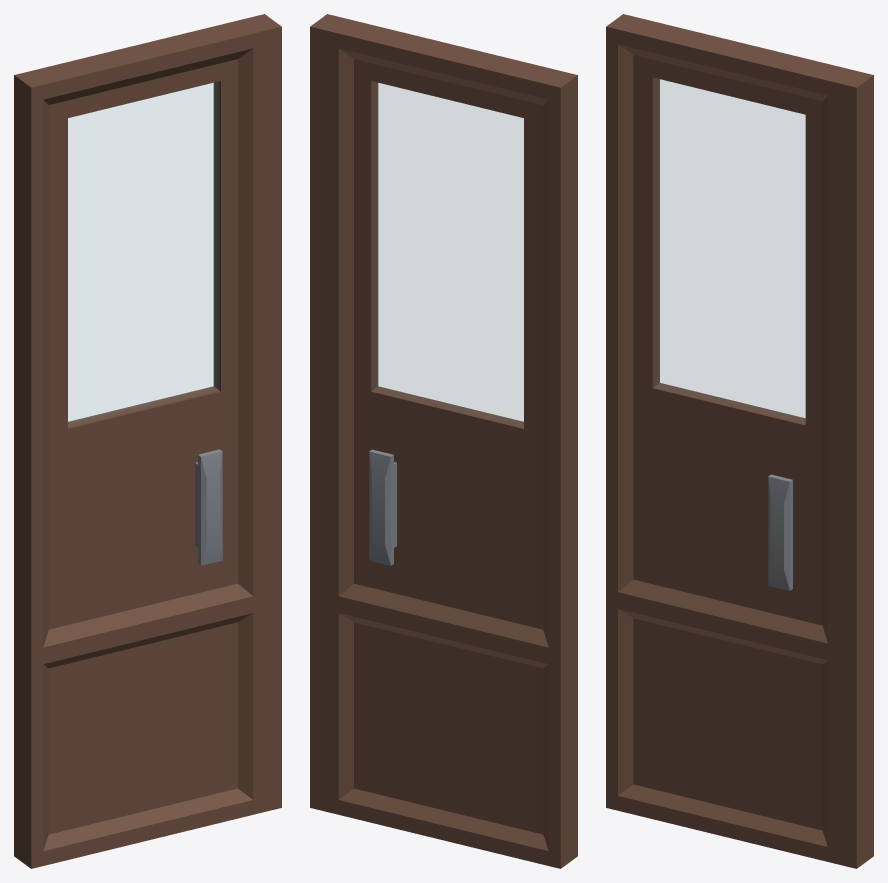
Rendered from SM_Buildings_CityHall_01.Door_L.fbx.
The picture shows the model from 3 angles, left to right: view 1: azimuth 30°, elevation 25°; view 2: azimuth 150°, elevation 25°; view 3: azimuth 330°, elevation 25°; orthographic projection.
Parts seen in each view (by area): view 1: SM_Buildings_CityHall_01.Door_L; view 2: SM_Buildings_CityHall_01.Door_L; view 3: SM_Buildings_CityHall_01.Door_L.
Boxes of the visible parts, x1,y1,x2,y2 form: SM_Buildings_CityHall_01.Door_L: (14, 14, 281, 868); SM_Buildings_CityHall_01.Door_L: (310, 14, 577, 868); SM_Buildings_CityHall_01.Door_L: (606, 14, 873, 868).
Bounding box in the file's own units: 0.9225 × 2.75 × 0.1791.
